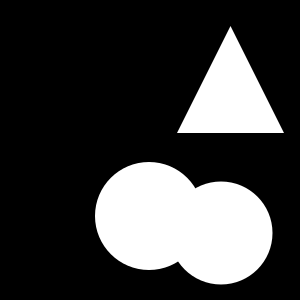rectangle: (95, 162, 203, 270), (170, 182, 272, 284)
triangle: (177, 26, 284, 133)
